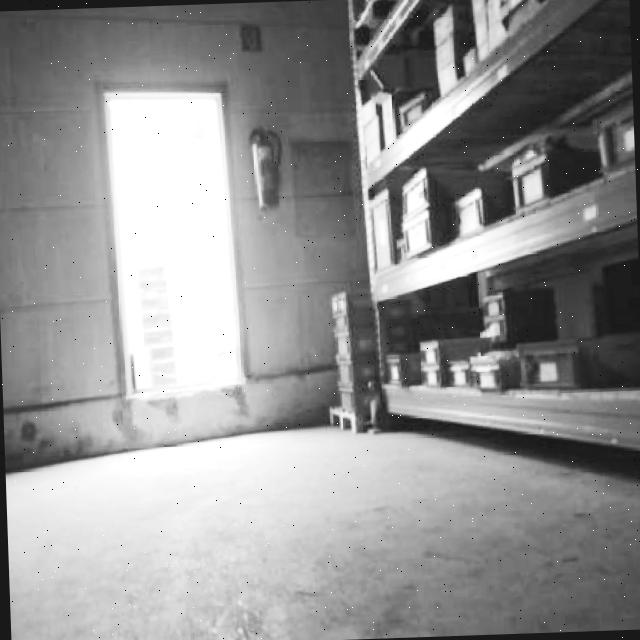ground: (5, 409, 640, 640)
pallet: (344, 0, 640, 497), (327, 275, 640, 478), (379, 372, 640, 470), (325, 286, 381, 434), (138, 262, 178, 388)
